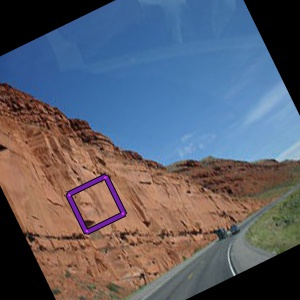square: (64, 172, 129, 236)
